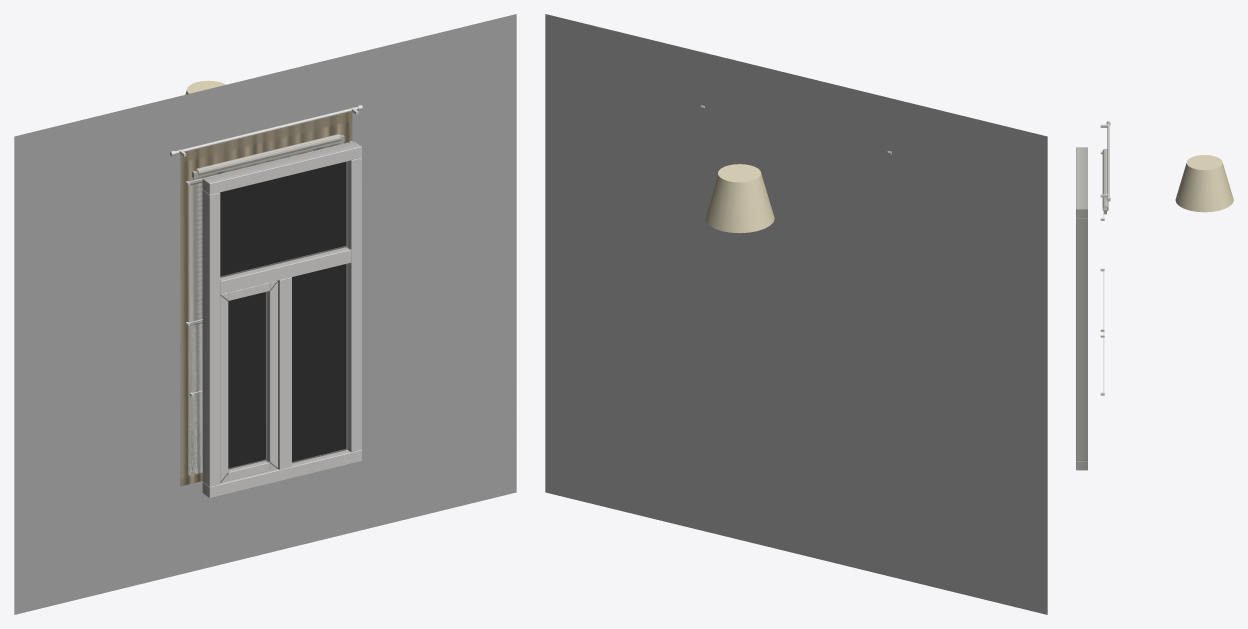
3 views of the same model, side by side, from view 1: azimuth 30°, elevation 25°; view 2: azimuth 150°, elevation 25°; view 3: azimuth 270°, elevation 25° (orthographic). The views are drawn at different scales.
Visible parts, largest first — view 1: room__card, glass__top, glass__fixed, curtain__C1_drawn, glass__casement, paint_joinery__frame_jamb_L, net__N2, paint_joinery__frame_jamb_R, paint_joinery__frame_head_rail, paint_joinery__mullion, curtain__C2_open_L, paint_joinery__transom (+8 smaller); view 2: room__card, pendant__shade; view 3: paint_joinery__frame_jamb_R, pendant__shade, paint_joinery__frame_head_rail, blind_roller__B2.
Boxes of the visible parts, x1,y1,x2,y2 form: room__card: [14, 14, 516, 614]; glass__top: [220, 162, 346, 276]; glass__fixed: [292, 264, 346, 461]; curtain__C1_drawn: [180, 111, 352, 486]; glass__casement: [228, 292, 265, 468]; paint_joinery__frame_jamb_L: [202, 190, 220, 486]; net__N2: [188, 142, 349, 474]; paint_joinery__frame_jamb_R: [347, 158, 361, 452]; paint_joinery__frame_head_rail: [202, 141, 361, 194]; paint_joinery__mullion: [278, 277, 291, 469]; curtain__C2_open_L: [180, 146, 210, 484]; paint_joinery__transom: [220, 247, 351, 294]; room__card: [545, 14, 1047, 614]; pendant__shade: [704, 164, 774, 233]; paint_joinery__frame_jamb_R: [1076, 218, 1087, 460]; pendant__shade: [1175, 155, 1233, 212]; paint_joinery__frame_head_rail: [1076, 147, 1087, 218]; blind_roller__B2: [1102, 148, 1108, 211].
Size of the model in its own units: 2.8 by 2.55 by 0.9175.
Materials: 7 (3 with a texture image).
